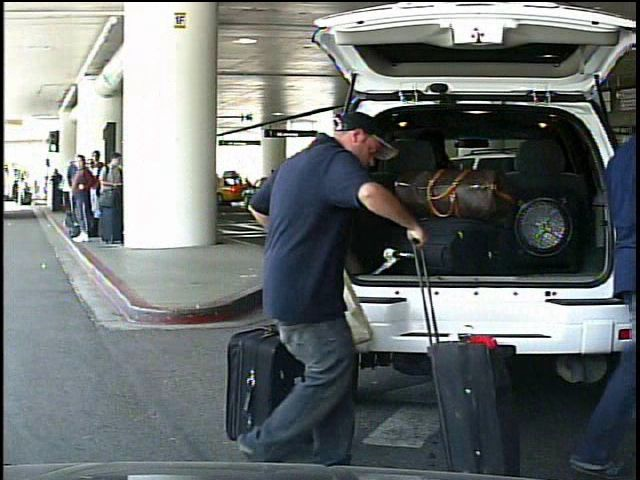person: (245, 100, 424, 475), (18, 176, 29, 207)
